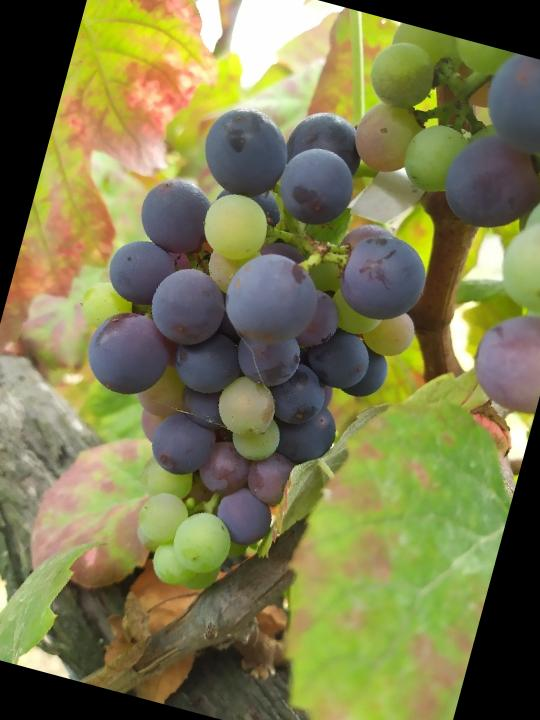grape: (29, 65, 471, 634)
